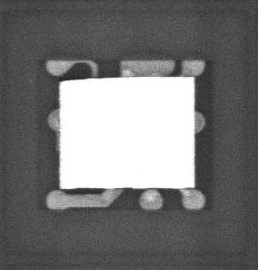DIE_BROKEN: (58, 75, 86, 82)
